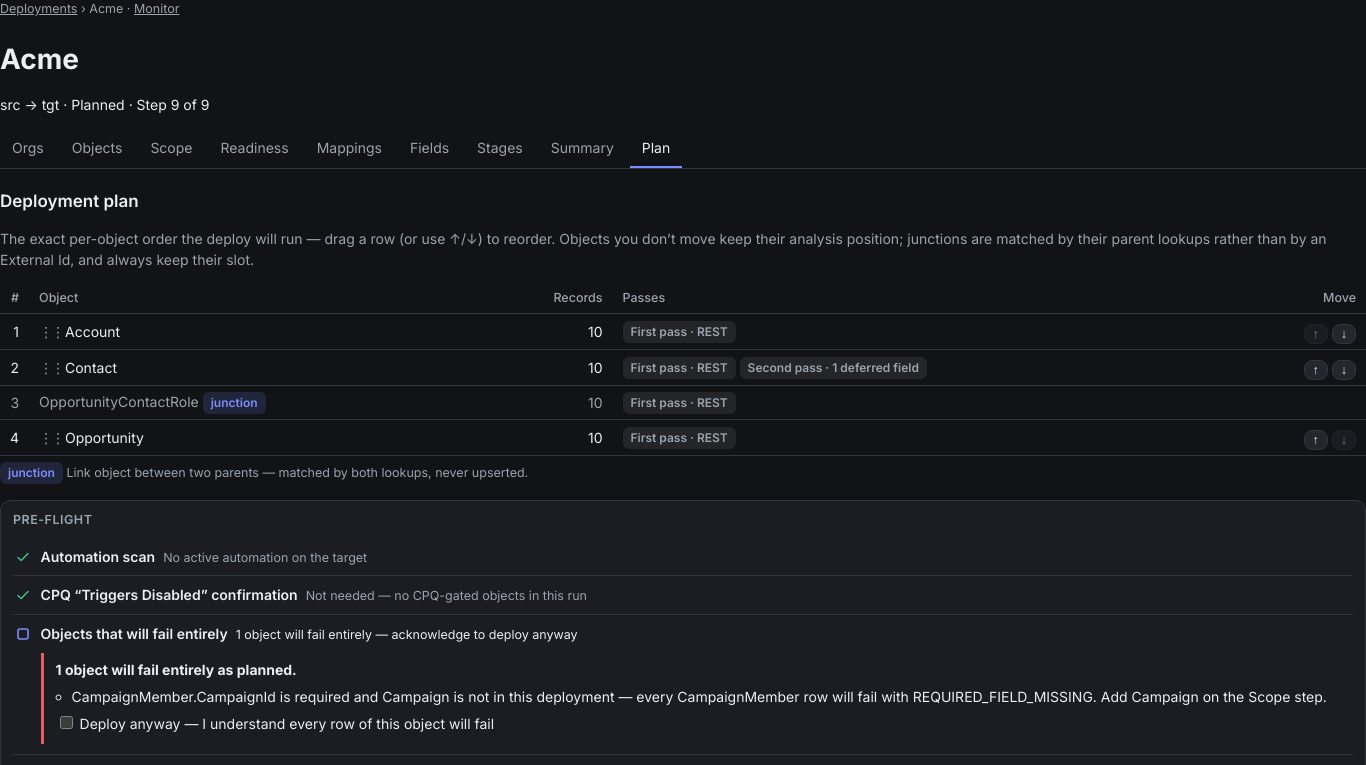
it: StepPlan — S62-1 whole-object failure acknowledgement › a will-fail warning renders in its own alert and keeps Deploy disabled until acknowledged
Check: the heading "Deployment plan" is shown, box [0,190,139,210]
Check: the message with test id "will-fail" shows "1 object will fail entirely", box [41,653,1353,744]
Click the checkbox.
click(66, 722)  # box [60,716,73,729]
(page scrolled)
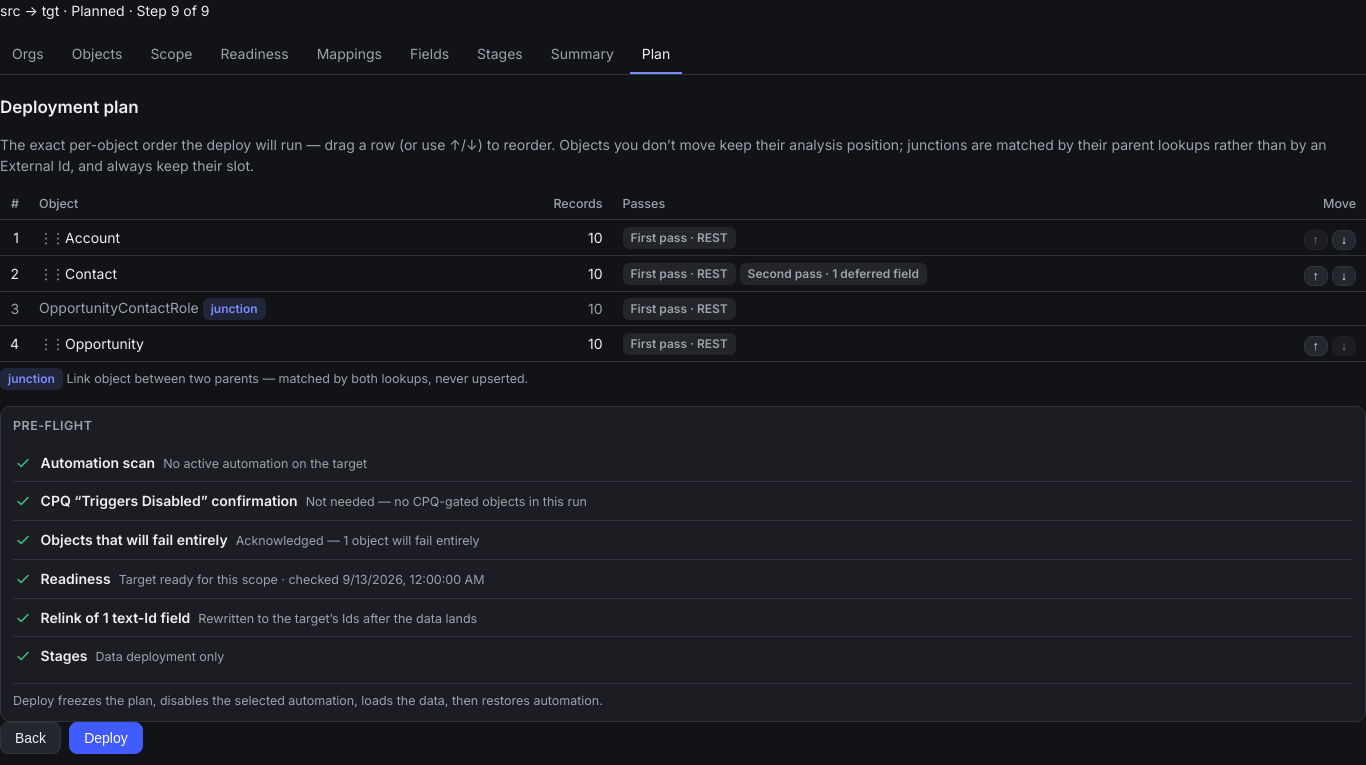
Check: the button "Deploy" is enabled, box [69,722,143,754]
